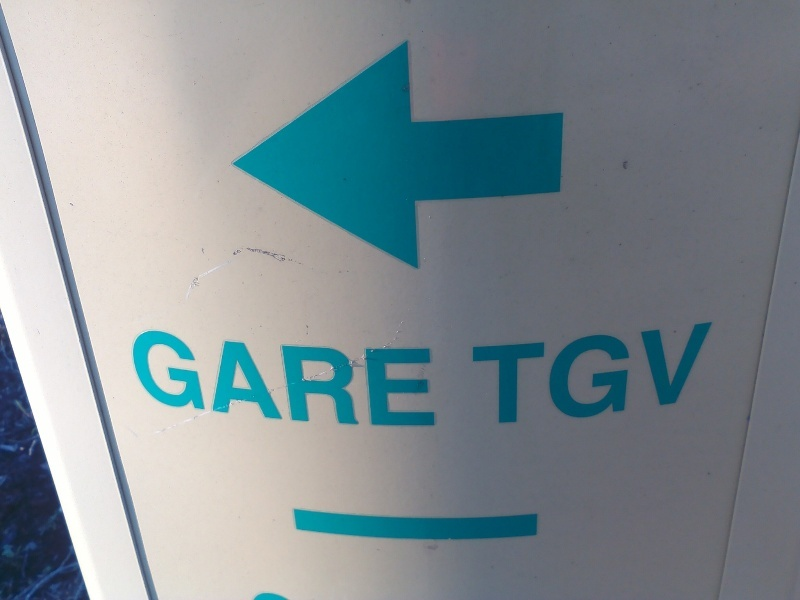text: (481, 321, 496, 430), (497, 321, 512, 430), (513, 321, 528, 430), (529, 321, 544, 430), (545, 321, 560, 430), (561, 321, 576, 430), (577, 321, 592, 430), (593, 321, 608, 430), (609, 321, 624, 430), (625, 321, 640, 430), (641, 321, 656, 430), (657, 321, 672, 430), (673, 321, 688, 430), (689, 321, 704, 430), (145, 328, 160, 429), (161, 328, 176, 429), (177, 328, 192, 429), (193, 328, 208, 429), (209, 328, 224, 429), (225, 328, 240, 429), (241, 328, 256, 429), (257, 328, 272, 429), (273, 328, 288, 429), (289, 328, 304, 429), (305, 328, 320, 429), (321, 328, 336, 429), (337, 328, 352, 429), (353, 328, 368, 429), (369, 328, 384, 429), (385, 328, 400, 429), (401, 328, 416, 429), (417, 328, 432, 429), (131, 328, 144, 429), (471, 321, 480, 430), (705, 321, 714, 430), (433, 328, 439, 429)
